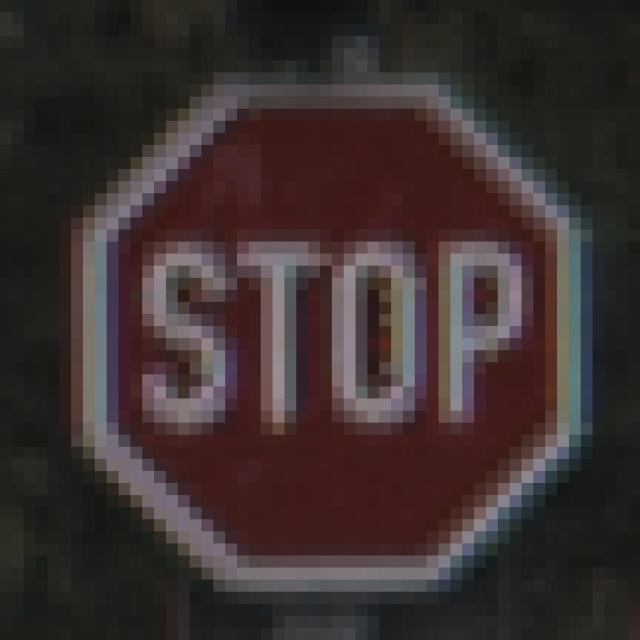STOP: (72, 74, 570, 581)
